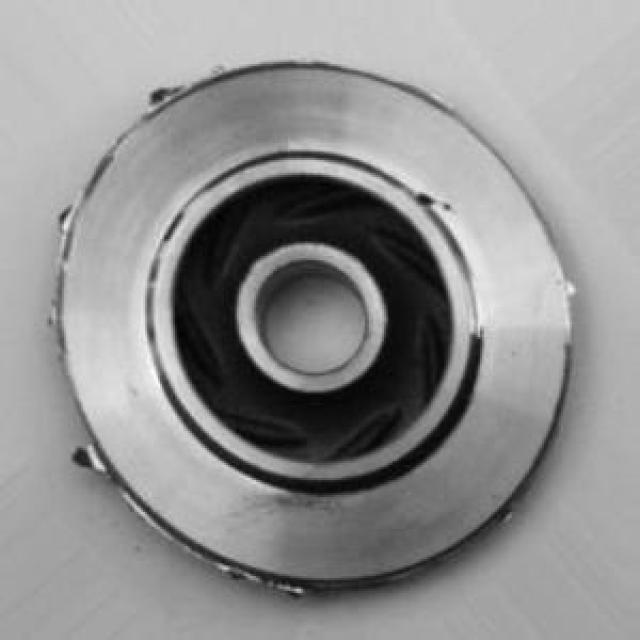Defect: (413, 188, 448, 212)
